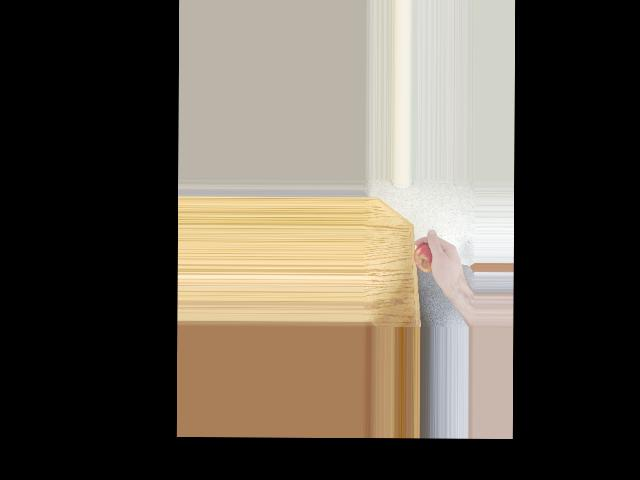apple: (411, 240, 439, 268)
